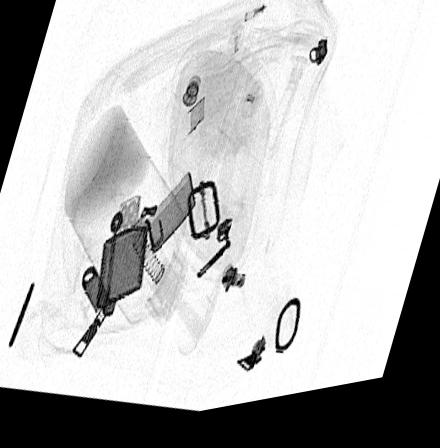Lighter: (95, 176, 196, 312)
